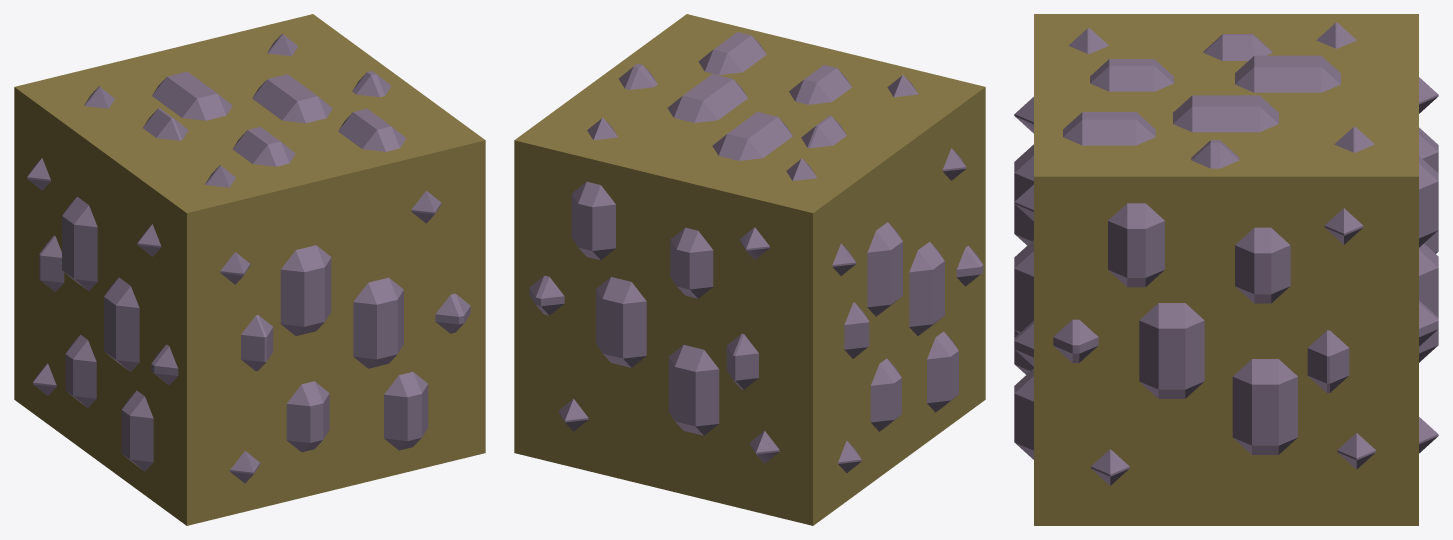
Rendered from quaternius-cube-world-block-crystal.glb.
3 renders of one model, left to right at view 1: azimuth 30°, elevation 25°; view 2: azimuth 150°, elevation 25°; view 3: azimuth 270°, elevation 25°, orthographic. The views are drawn at different scales.
Parts seen in each view (by area): view 1: Block_Crystal; view 2: Block_Crystal; view 3: Block_Crystal.
Boxes of the visible parts, <box> form: Block_Crystal: <box>14,14,485,525</box>; Block_Crystal: <box>514,14,985,525</box>; Block_Crystal: <box>1014,14,1438,525</box>.
Size of the model in its own units: 2.2 by 2.2 by 2.2.
Materials: 1 (1 with a texture image).
